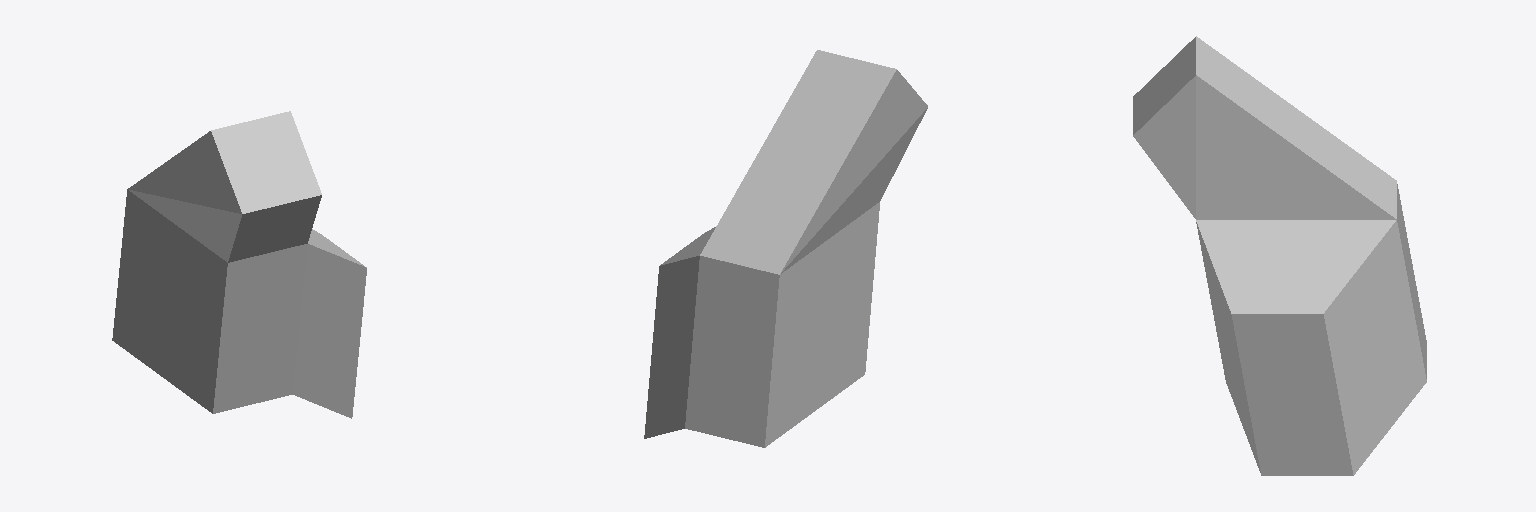
File: Trash16.obj
The picture shows the model from 3 angles: view 1: azimuth 30°, elevation 25°; view 2: azimuth 150°, elevation 25°; view 3: azimuth 270°, elevation 25°; orthographic projection.
Visible parts, largest first — view 1: Trash16; view 2: Trash16; view 3: Trash16.
Part boxes in pixels (left/top/right/bottom): Trash16: left=112, top=111, right=366, bottom=418; Trash16: left=644, top=50, right=927, bottom=447; Trash16: left=1133, top=36, right=1426, bottom=475.
Size of the model in its own units: 2.18 by 4.25 by 3.19.